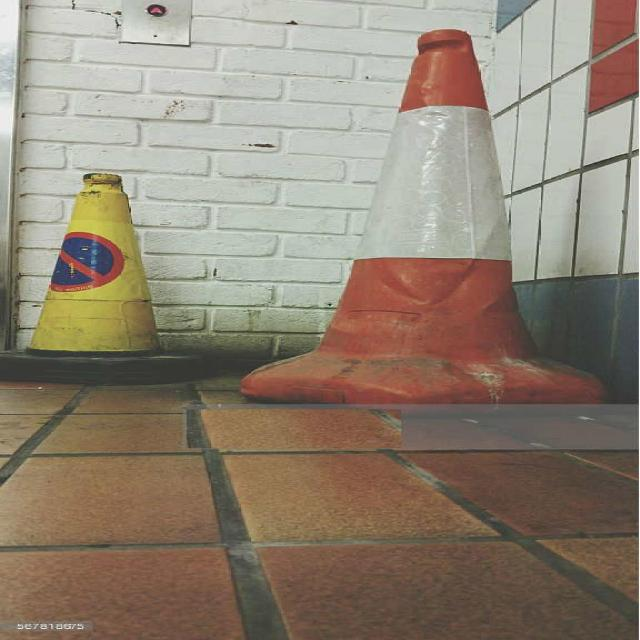Cone: (218, 29, 619, 415)
